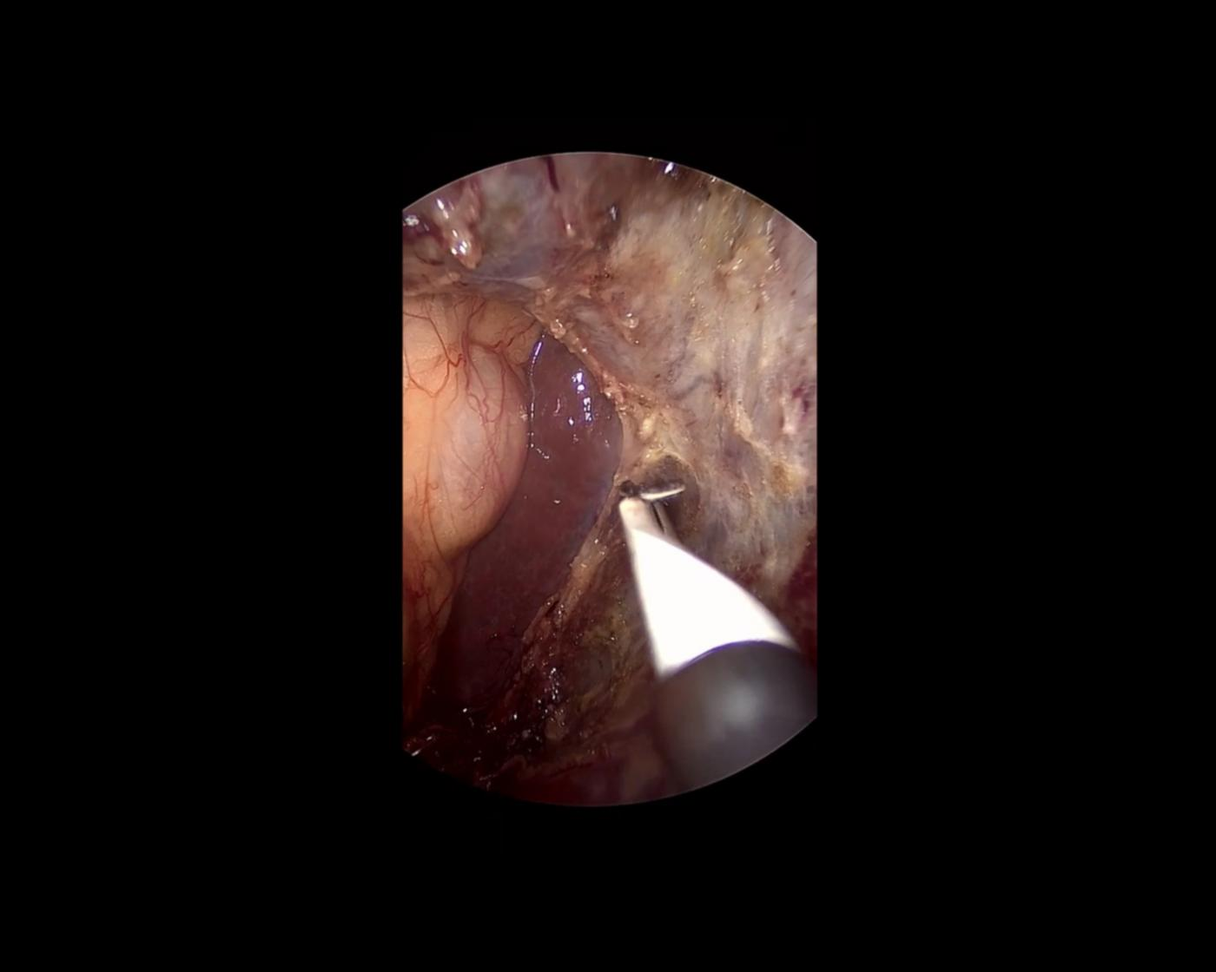Cautery: (570, 458, 835, 789)
Gallbladder: (399, 145, 656, 311)
Liver: (417, 327, 642, 764)
